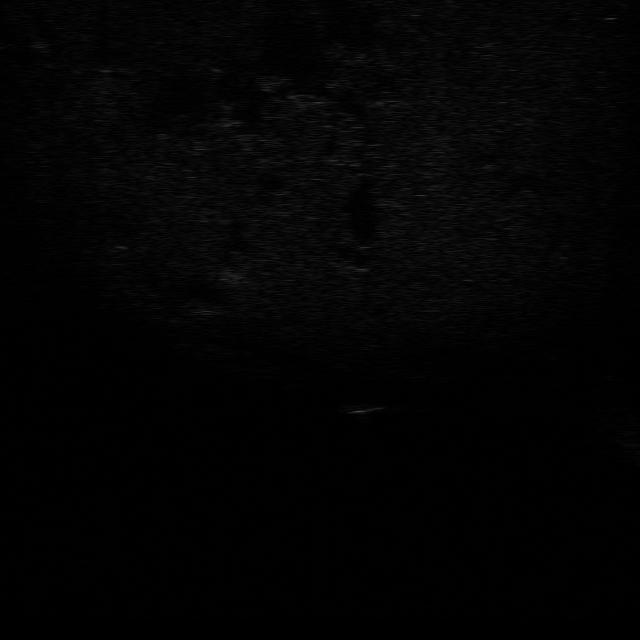square cage: (336, 401, 385, 416)
